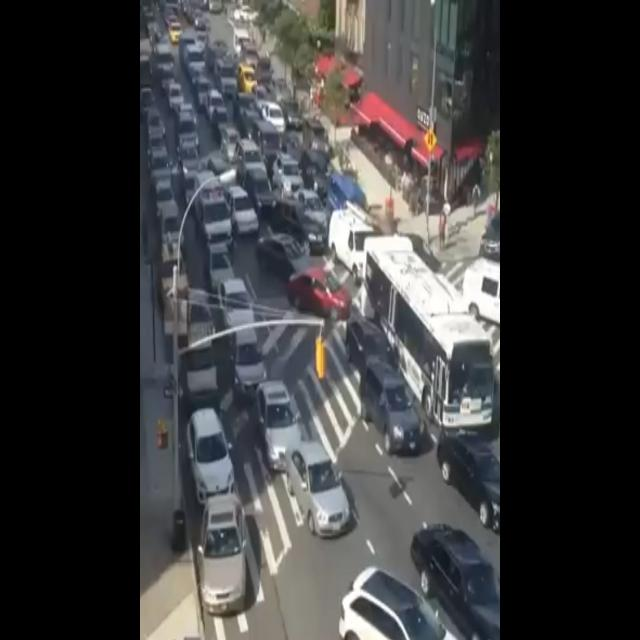Ambulance: (192, 163, 236, 250)
